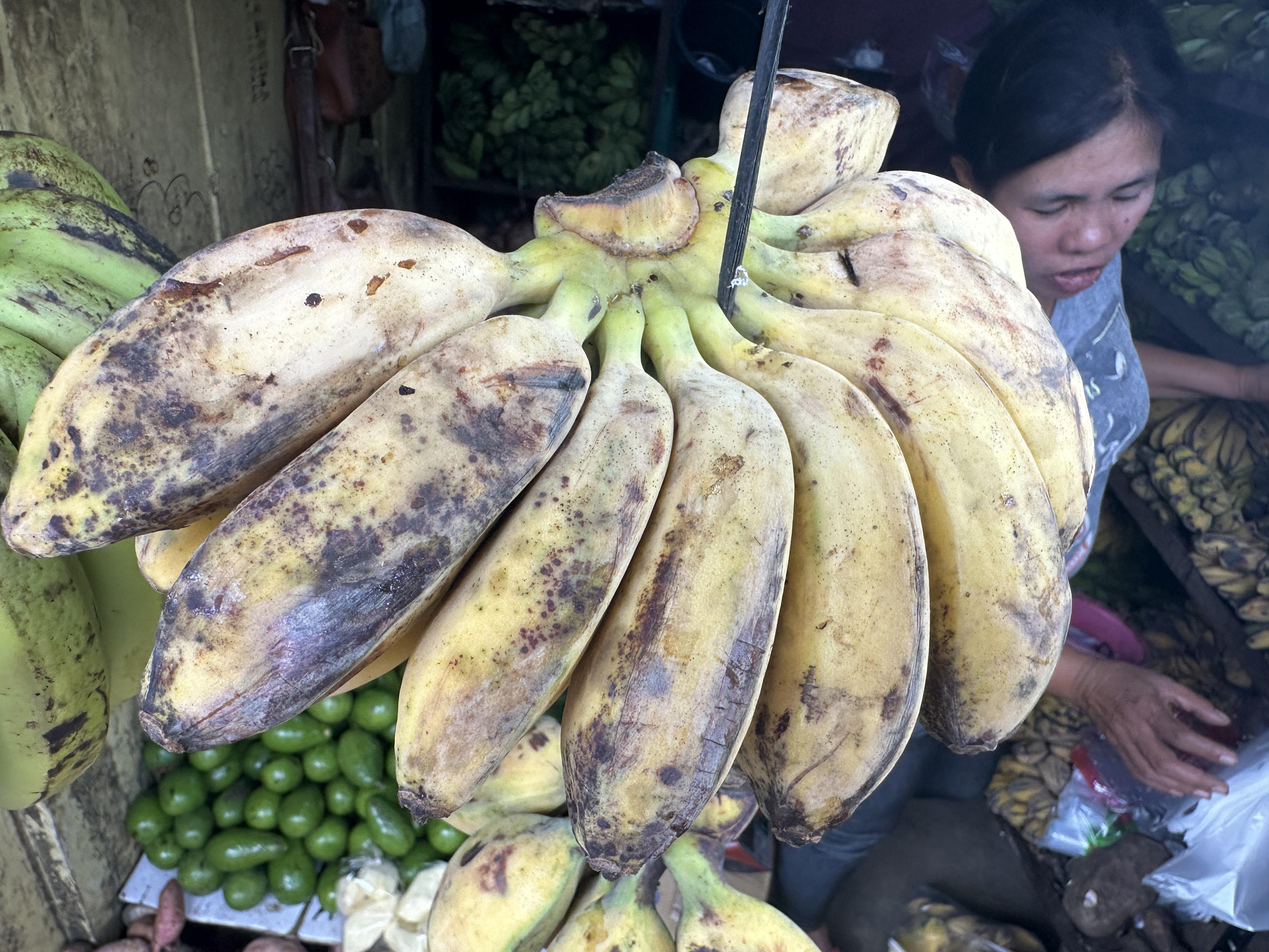ripe: (0, 74, 1090, 880)
